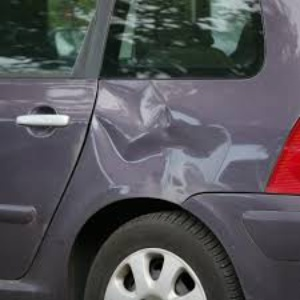door: (3, 82, 240, 197)
